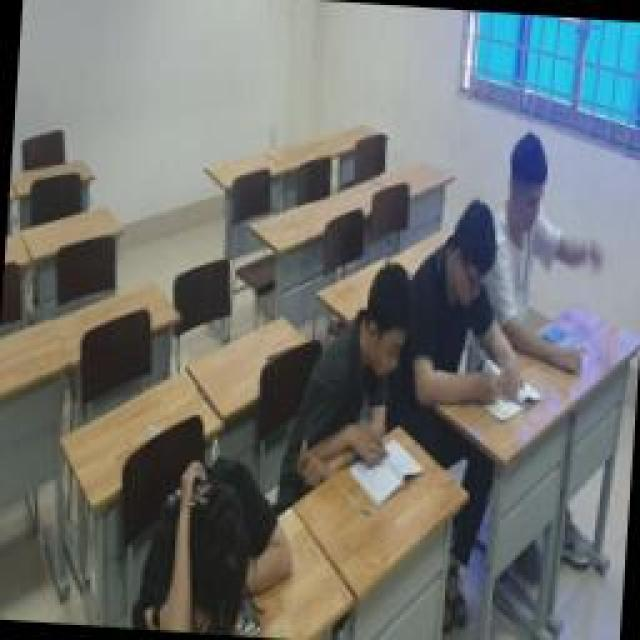sleep: (130, 455, 298, 640)
study: (397, 195, 555, 423), (292, 255, 430, 507), (475, 130, 607, 378)
